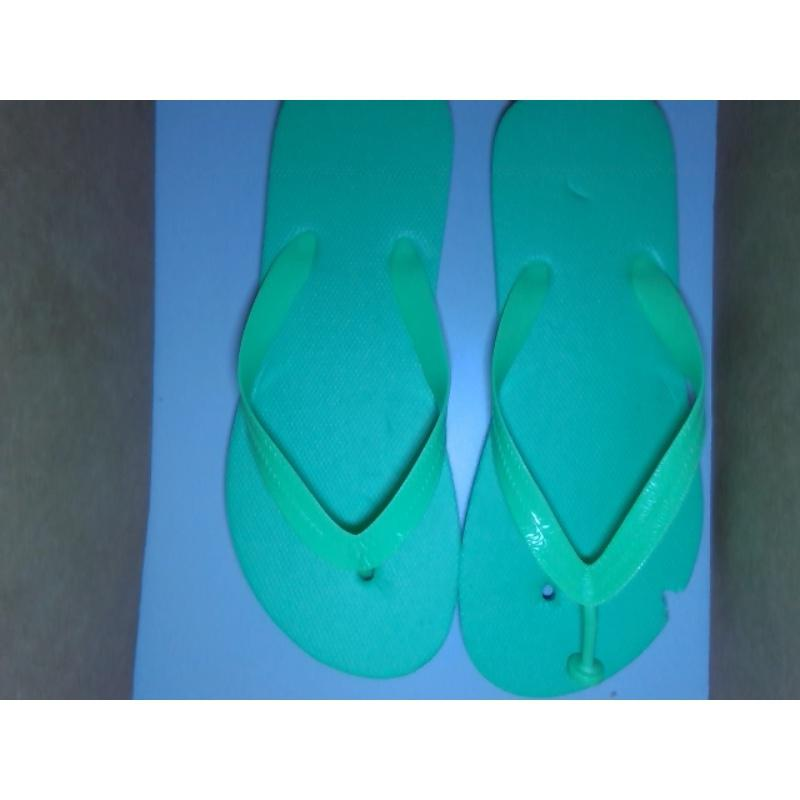chipped: (650, 574, 699, 646)
detached: (560, 635, 613, 690)
